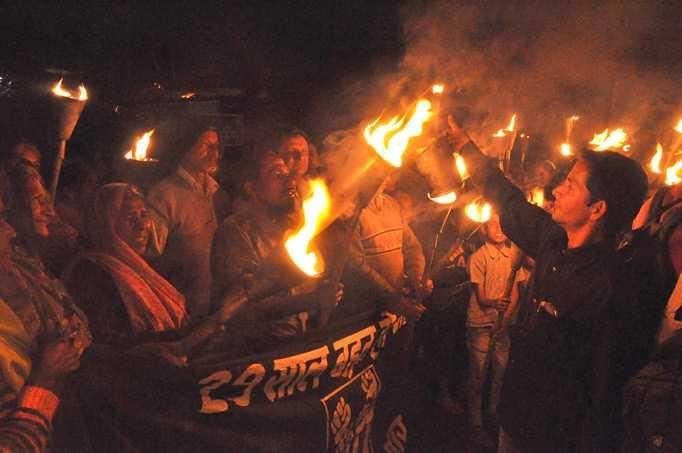fire: (284, 175, 337, 278), (362, 97, 439, 167), (125, 124, 159, 167), (584, 127, 640, 152), (44, 79, 94, 102), (660, 157, 680, 194)
